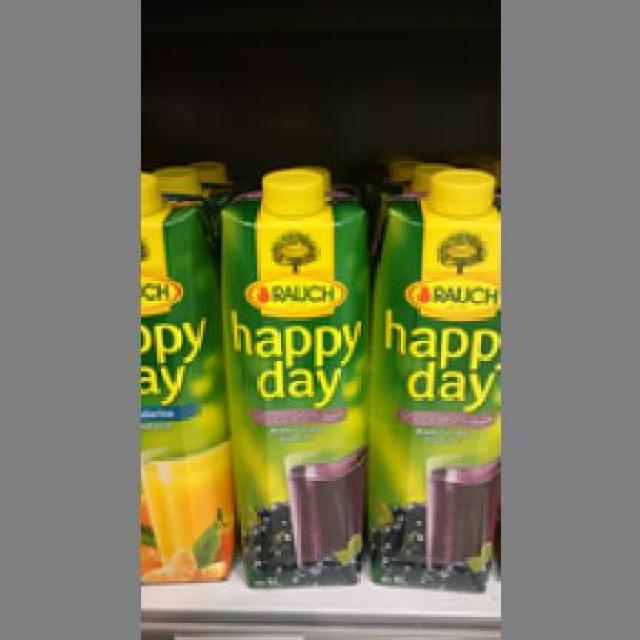Juice: (216, 166, 372, 583), (363, 167, 494, 584), (133, 166, 230, 580)
